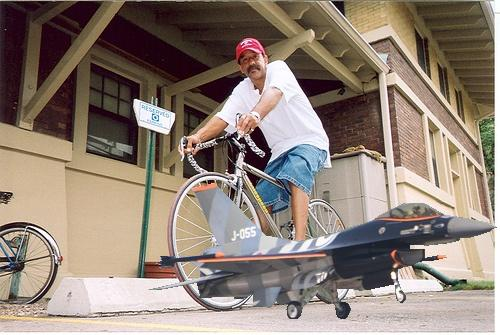tampered: (150, 184, 497, 319)
